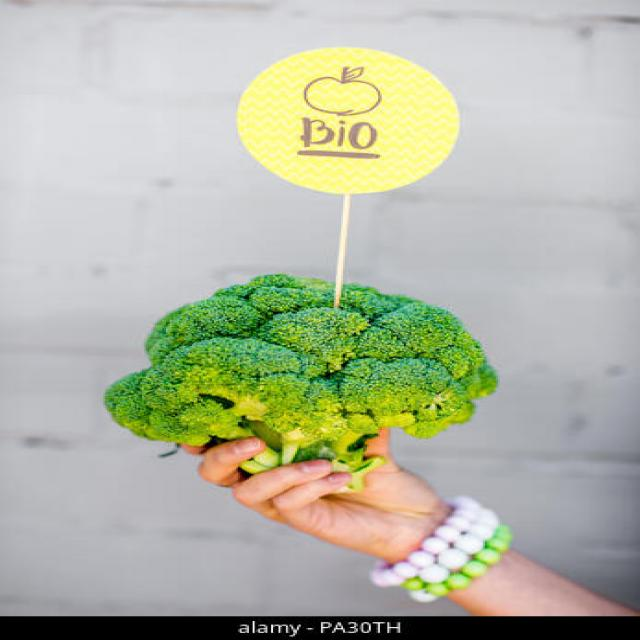broccoli: (102, 272, 493, 496)
